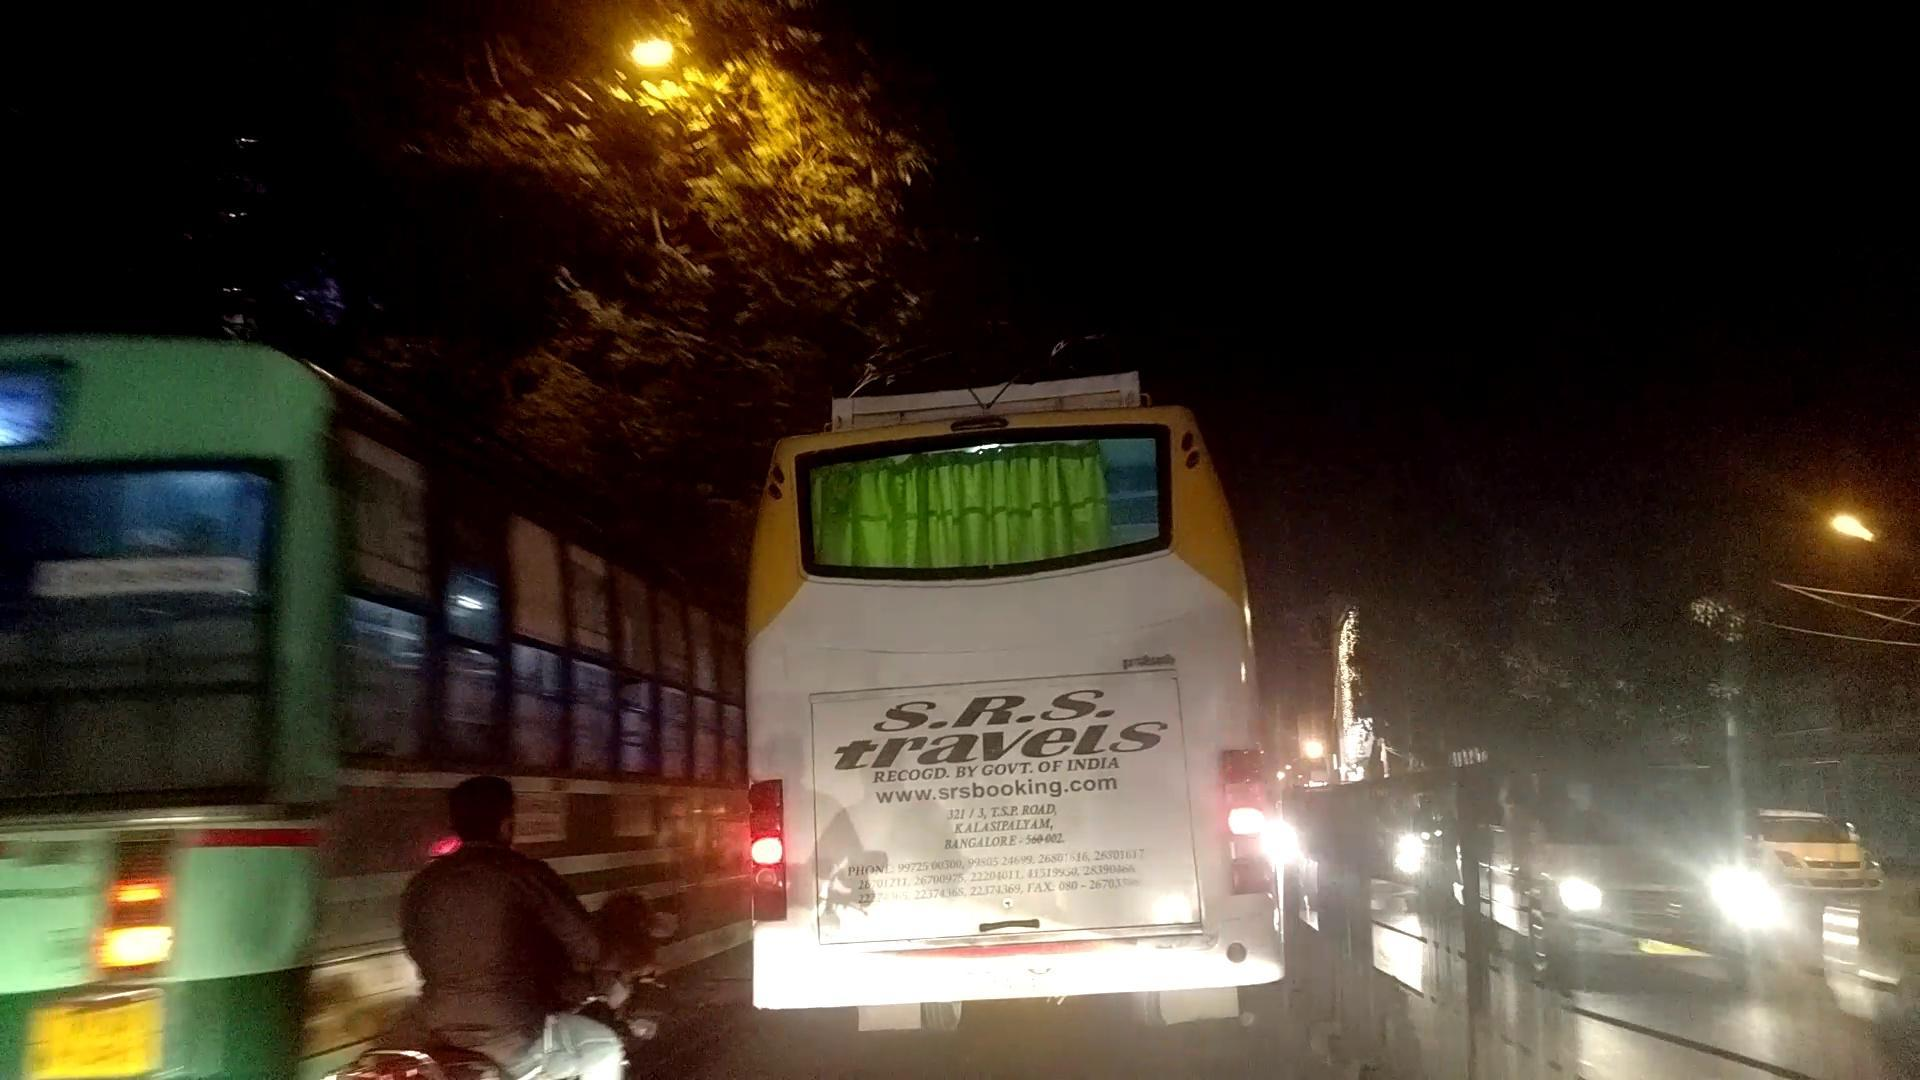on: (1650, 382, 1920, 626), (580, 0, 791, 235)
